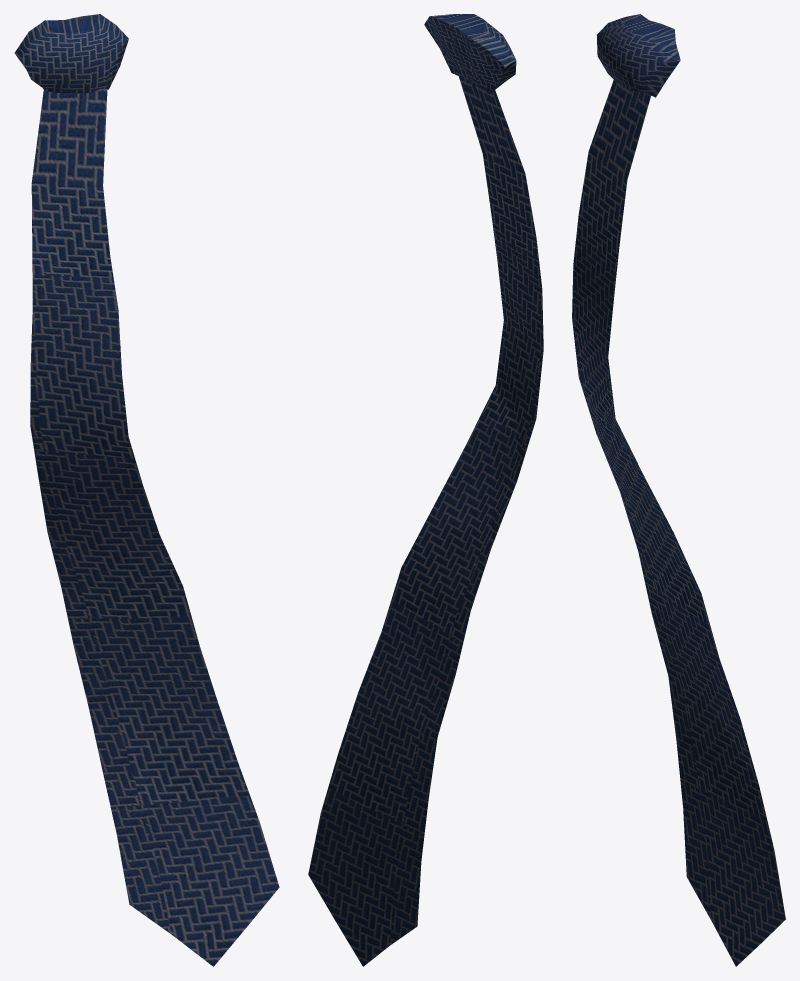
File: Pose-9_Tie-3.fbx
The picture shows the model from 3 angles, left to right: view 1: azimuth 30°, elevation 25°; view 2: azimuth 150°, elevation 25°; view 3: azimuth 330°, elevation 25°; orthographic projection. The views are drawn at different scales.
Parts seen in each view (by area): view 1: Pose-9_Tie-3; view 2: Pose-9_Tie-3; view 3: Pose-9_Tie-3.
Part boxes in pixels (<box>): Pose-9_Tie-3: <box>14,14,279,966</box>; Pose-9_Tie-3: <box>308,14,543,966</box>; Pose-9_Tie-3: <box>572,14,785,966</box>.
Size of the model in its own units: 12.62 by 48.47 by 5.11.
